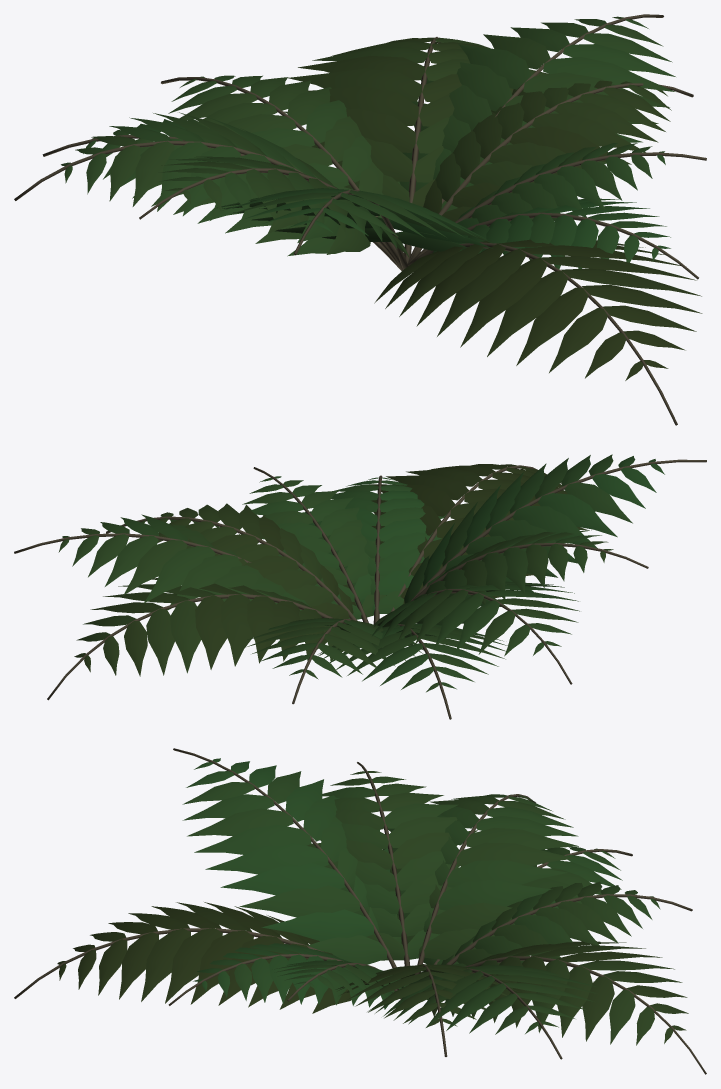
File: ER_Fougere_Moyenne.gltf
3 views of the same model, one above another, from view 1: azimuth 30°, elevation 25°; view 2: azimuth 150°, elevation 25°; view 3: azimuth 270°, elevation 25° (orthographic). The views are drawn at different scales.
Parts seen in each view (by area): view 1: ER_Fougere_Moyenne_FOU.001, ER_Fougere_Moyenne_TIG.001; view 2: ER_Fougere_Moyenne_FOU.001, ER_Fougere_Moyenne_TIG.001; view 3: ER_Fougere_Moyenne_FOU.001, ER_Fougere_Moyenne_TIG.001.
Boxes of the visible parts, x1=… form: ER_Fougere_Moyenne_FOU.001: x1=61, y1=16, x2=702, y2=380; ER_Fougere_Moyenne_TIG.001: x1=14, y1=14, x2=706, y2=425; ER_Fougere_Moyenne_FOU.001: x1=58, y1=454, x2=664, y2=692; ER_Fougere_Moyenne_TIG.001: x1=14, y1=459, x2=706, y2=719; ER_Fougere_Moyenne_FOU.001: x1=57, y1=758, x2=688, y2=1045; ER_Fougere_Moyenne_TIG.001: x1=14, y1=748, x2=706, y2=1074.
Size of the model in its own units: 1.25 by 0.3513 by 1.38.
